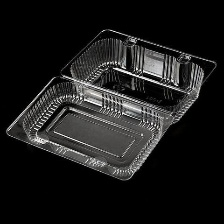plastic_box: (0, 22, 222, 186)
